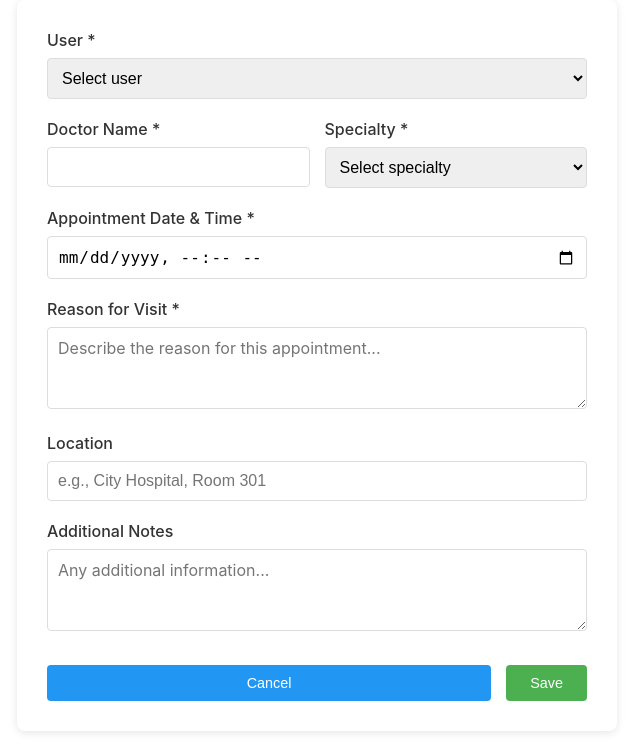
Test: AppointmentForm Component › should show validation errors for required fields
The image size is (635, 750).
Click the button "Save". click: (547,683)
box: x1=506 y1=665 x2=587 y2=701
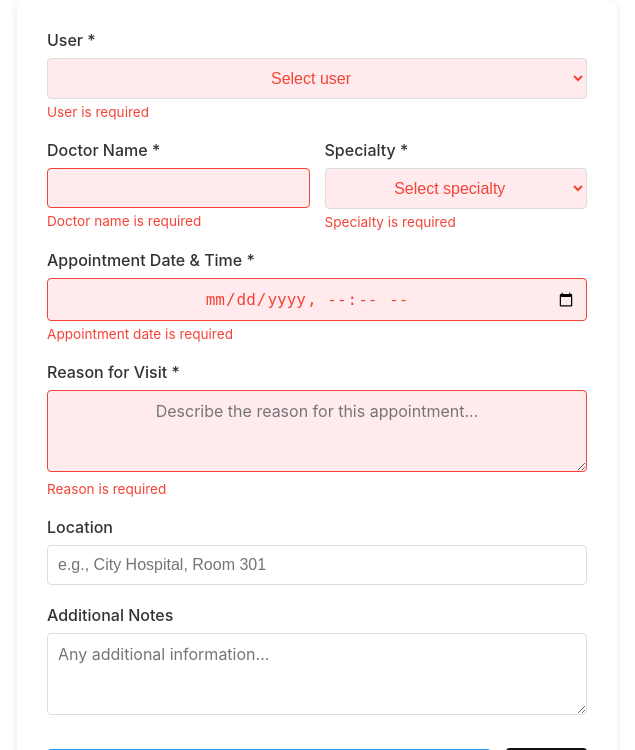
Now the text "User is required" is shown, box x1=47 y1=104 x2=149 y2=120
Now the text "Doctor name is required" is shown, box x1=47 y1=213 x2=201 y2=229
Now the text "Specialty is required" is shown, box x1=324 y1=214 x2=456 y2=230
